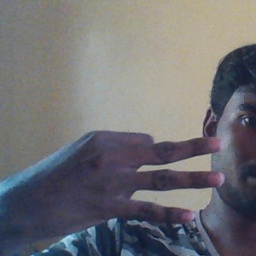K: (20, 129, 227, 233)
